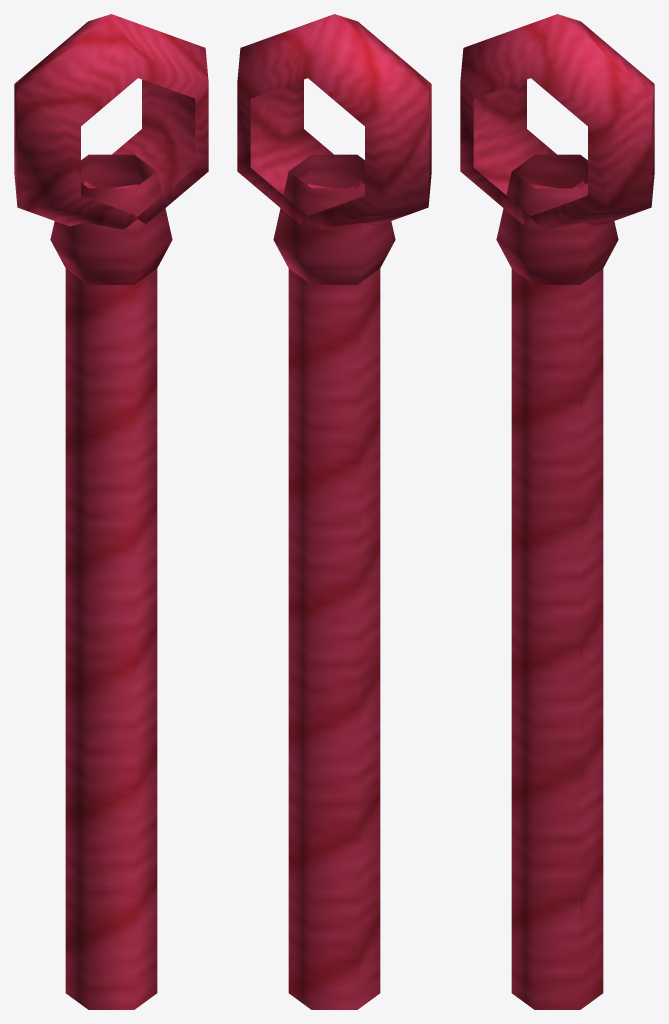
Rendered from shengzi01.FBX.
3 views of the same model, side by side, from view 1: azimuth 30°, elevation 25°; view 2: azimuth 150°, elevation 25°; view 3: azimuth 330°, elevation 25° (orthographic).
Visible parts, largest first — view 1: Object01; view 2: Object01; view 3: Object01.
Part boxes in pixels (left/top/right/bottom): Object01: left=14, top=14, right=208, bottom=1009; Object01: left=237, top=14, right=431, bottom=1009; Object01: left=460, top=14, right=654, bottom=1009.
Bounding box in the file's own units: 0.8949 × 4.45 × 0.5029.
